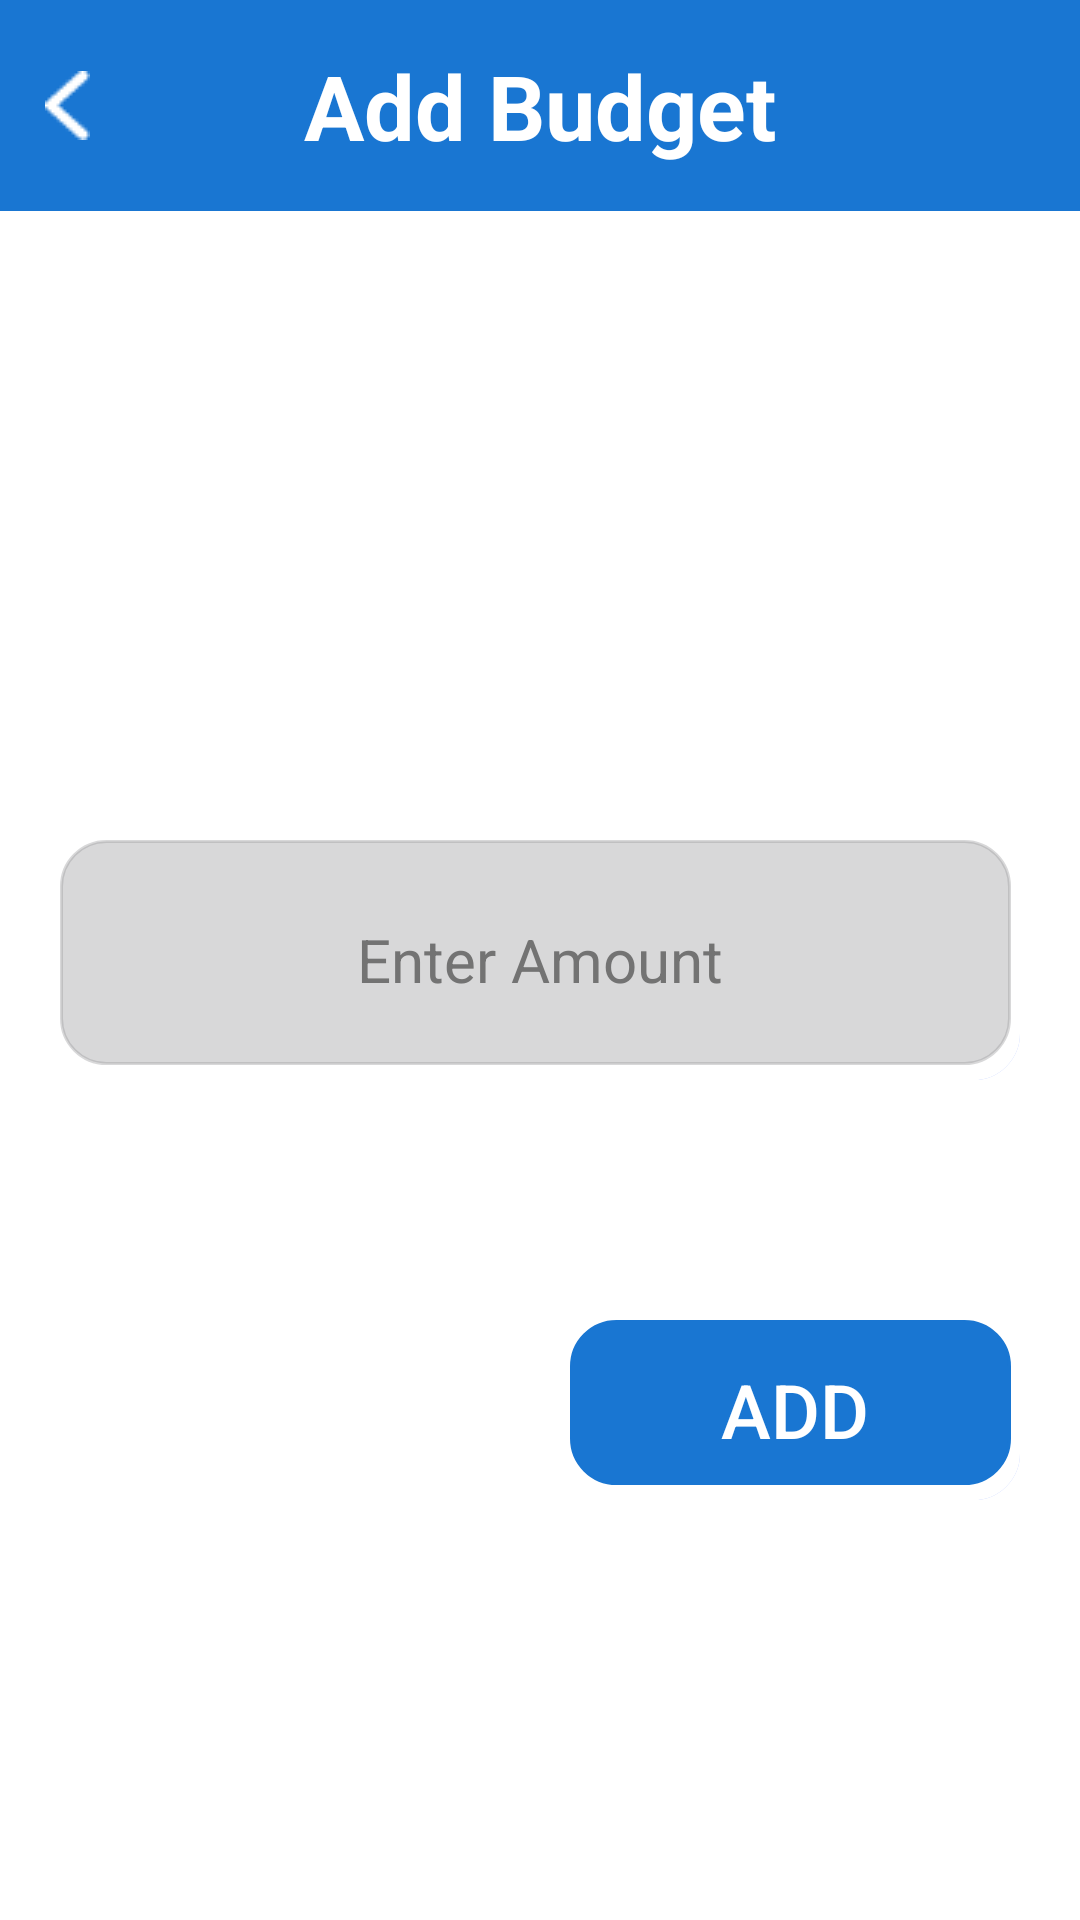

Where to tap for icons on this 1080px x 1920px app screen, as [x,y]:
arrow back: [67,105]
